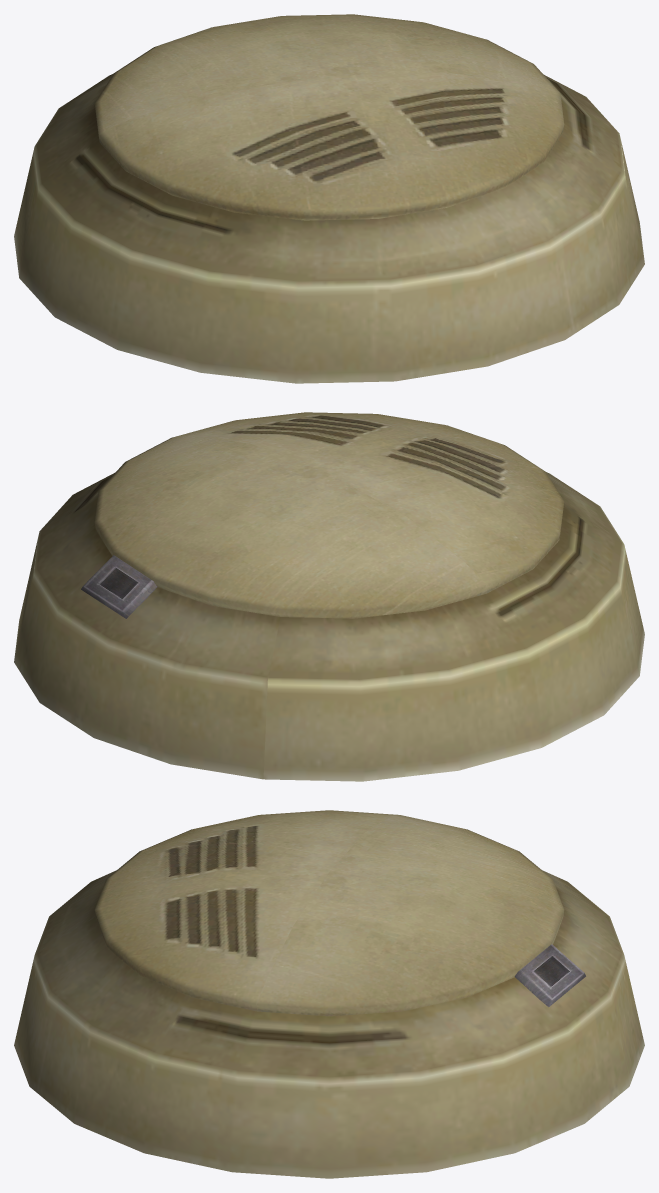
File: fire_alarm.dae
The picture shows the model from 3 angles, top to bottom: view 1: azimuth 30°, elevation 25°; view 2: azimuth 150°, elevation 25°; view 3: azimuth 270°, elevation 25°; orthographic projection.
Parts seen in each view (by area): view 1: fire_alarm; view 2: fire_alarm; view 3: fire_alarm.
Boxes of the visible parts, <box> form: fire_alarm: <box>14,14,644,383</box>; fire_alarm: <box>14,412,644,781</box>; fire_alarm: <box>14,810,644,1178</box>.
Bounding box in the file's own units: 24 × 7.28 × 24.
